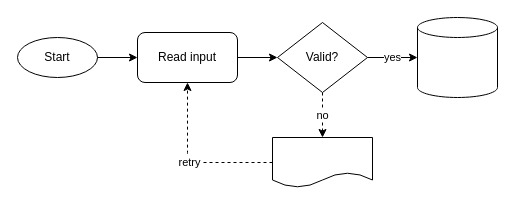
Some shapes in this 515 by 205 pixel diagram are drawn without their labels. The centre of each missing label's shape, as x and y in pixels:
"Save to database" goes at [457,57].
"Show error" goes at [322,162].
